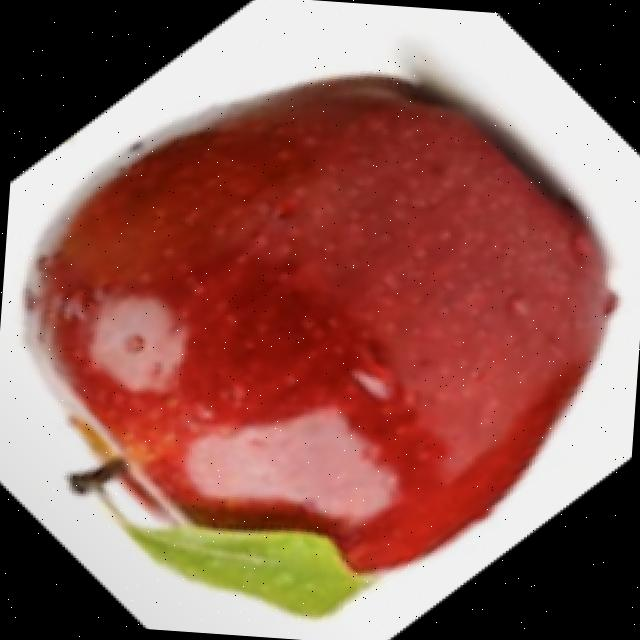Ripe: (0, 43, 631, 640)
